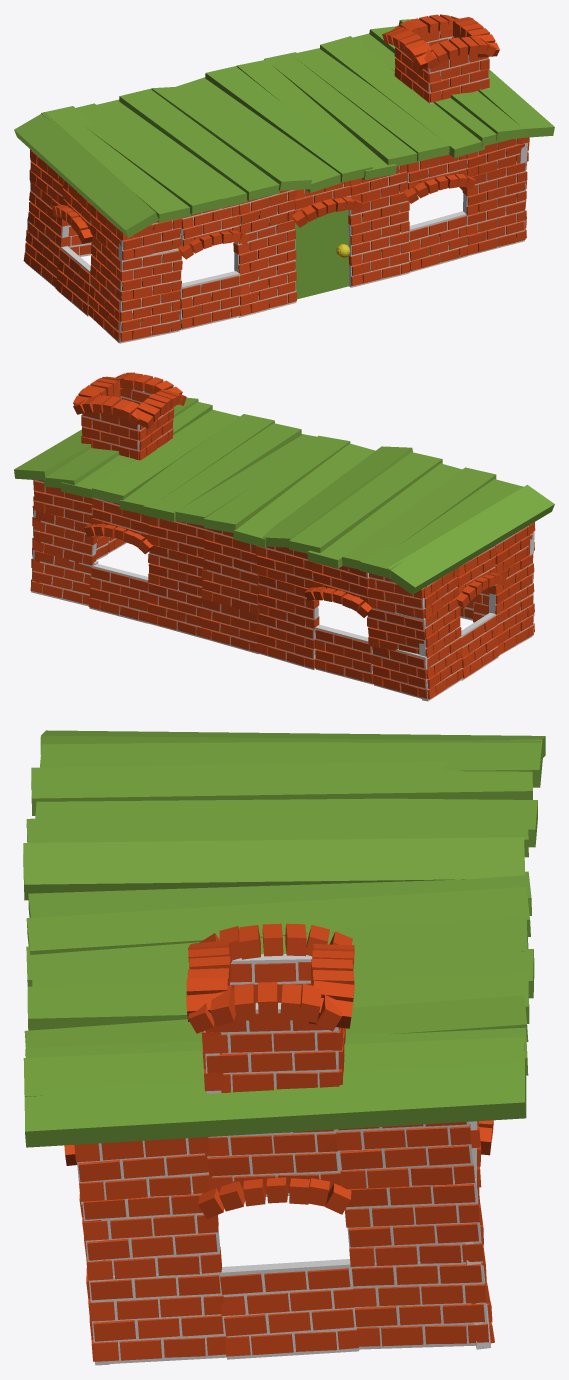
3 views of the same model, one above another, from view 1: azimuth 30°, elevation 25°; view 2: azimuth 150°, elevation 25°; view 3: azimuth 270°, elevation 25° (orthographic). The views are drawn at different scales.
Visible parts, largest first — view 1: node_MeshObject375426048-PolyPaper14, node_MeshObject1809997824-PolyPaper14, node_MeshObject2091663360-PolyPaper21, node_MeshObject-196653056-PolyPaper14, node_MeshObject947505152-PolyPaper14, node_MeshObject-1912890368-PolyPaper14, node_MeshObject-1340811264-PolyPaper21; view 2: node_MeshObject375426048-PolyPaper14, node_MeshObject-768732160-PolyPaper14, node_MeshObject-1340811264-PolyPaper21, node_MeshObject-196653056-PolyPaper14, node_MeshObject947505152-PolyPaper14, node_MeshObject2091663360-PolyPaper21, node_MeshObject-1912890368-PolyPaper14; view 3: node_MeshObject375426048-PolyPaper14, node_MeshObject-1912890368-PolyPaper14, node_MeshObject947505152-PolyPaper14, node_MeshObject-1340811264-PolyPaper21, node_MeshObject1809997824-PolyPaper14.
Part boxes in pixels (x1,y1,x2,y2): node_MeshObject375426048-PolyPaper14: [14, 18, 554, 343]; node_MeshObject1809997824-PolyPaper14: [348, 138, 526, 287]; node_MeshObject2091663360-PolyPaper21: [90, 190, 296, 343]; node_MeshObject-196653056-PolyPaper14: [25, 151, 121, 341]; node_MeshObject947505152-PolyPaper14: [292, 14, 499, 258]; node_MeshObject-1912890368-PolyPaper14: [294, 137, 529, 241]; node_MeshObject-1340811264-PolyPaper21: [26, 181, 526, 256]; node_MeshObject375426048-PolyPaper14: [14, 388, 554, 699]; node_MeshObject-768732160-PolyPaper14: [84, 516, 427, 654]; node_MeshObject-1340811264-PolyPaper21: [108, 537, 430, 698]; node_MeshObject-196653056-PolyPaper14: [30, 498, 533, 701]; node_MeshObject947505152-PolyPaper14: [73, 372, 186, 460]; node_MeshObject2091663360-PolyPaper21: [459, 522, 535, 655]; node_MeshObject-1912890368-PolyPaper14: [31, 480, 126, 583]; node_MeshObject375426048-PolyPaper14: [23, 730, 545, 1269]; node_MeshObject-1912890368-PolyPaper14: [74, 1121, 488, 1364]; node_MeshObject947505152-PolyPaper14: [186, 923, 354, 1033]; node_MeshObject-1340811264-PolyPaper21: [89, 1236, 226, 1361]; node_MeshObject1809997824-PolyPaper14: [64, 1145, 109, 1365].
Size of the model in its own units: 4.05 by 1.75 by 2.18.
